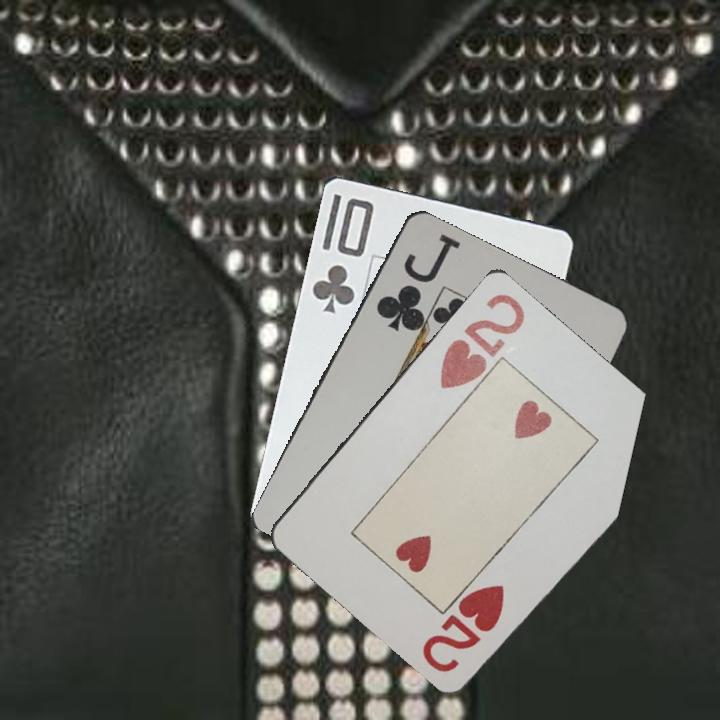2h: (436, 289, 528, 392), (419, 580, 508, 675)
Jc: (372, 229, 458, 334)
Tc: (308, 193, 377, 316)
